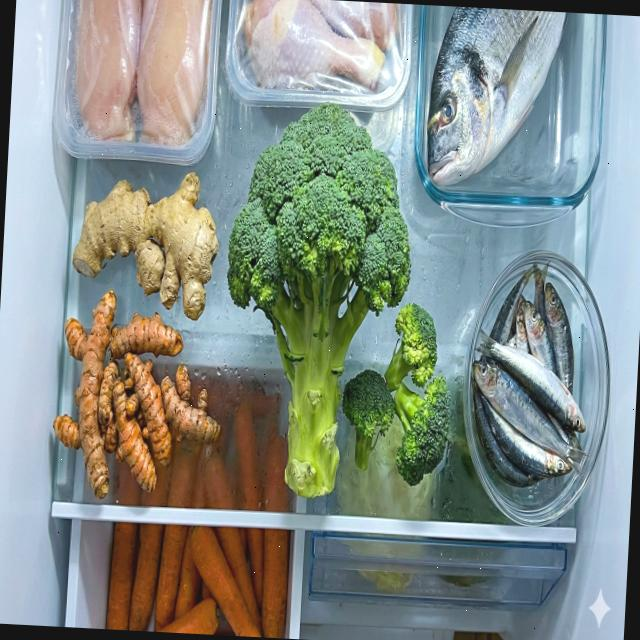brocolli: (215, 97, 466, 506)
carrot: (106, 375, 300, 638)
chicken: (72, 0, 214, 147), (241, 0, 400, 94)
fish: (465, 257, 600, 491), (424, 6, 569, 192)
ginger: (70, 166, 222, 322)
turmeric: (49, 285, 228, 507)
